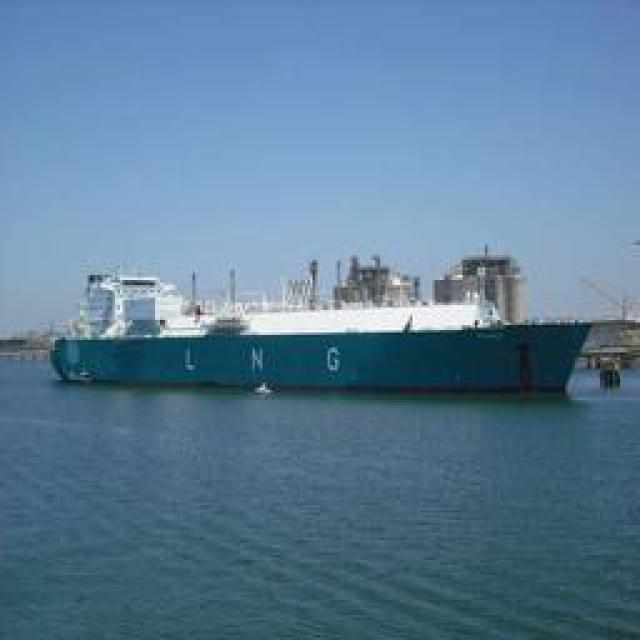Ship: (51, 271, 614, 394)
